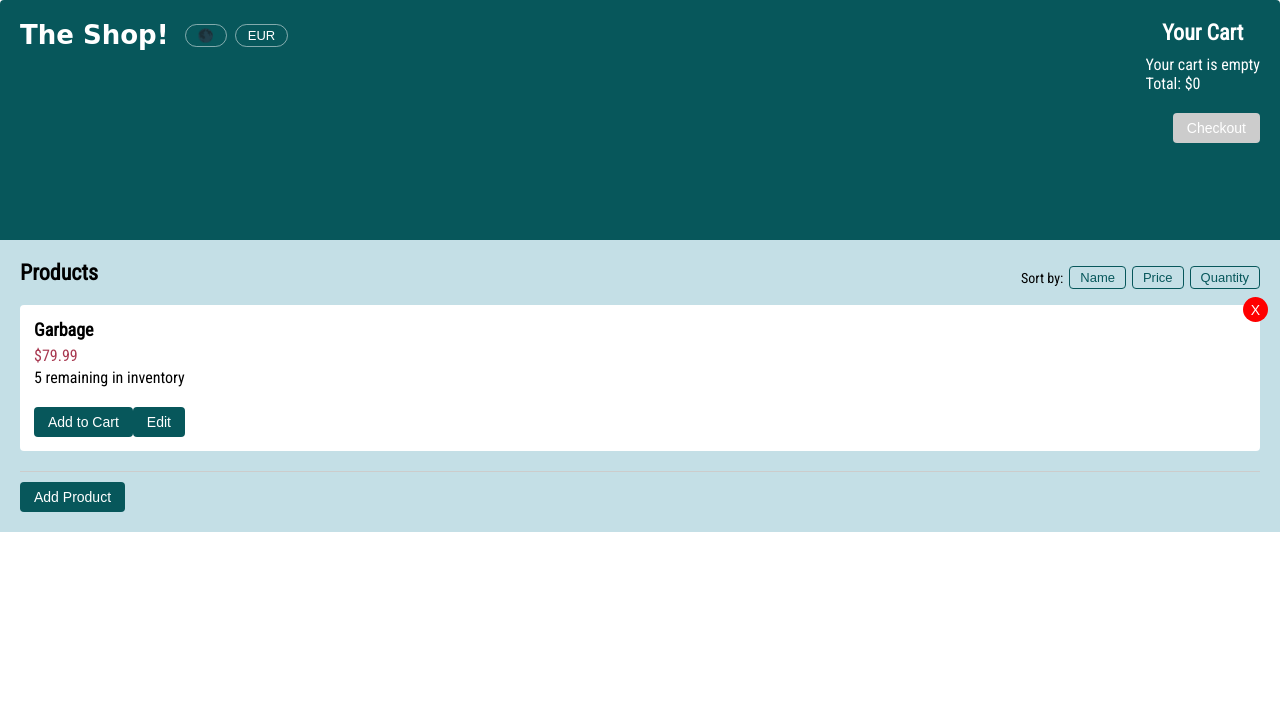
Test: deleting product removes from product list
Expected: the heading "Garbage" is shown, left=34, top=319, right=94, bottom=340
Click the button "X" at x=1256, y=310, box left=1243, top=297, right=1268, bottom=322
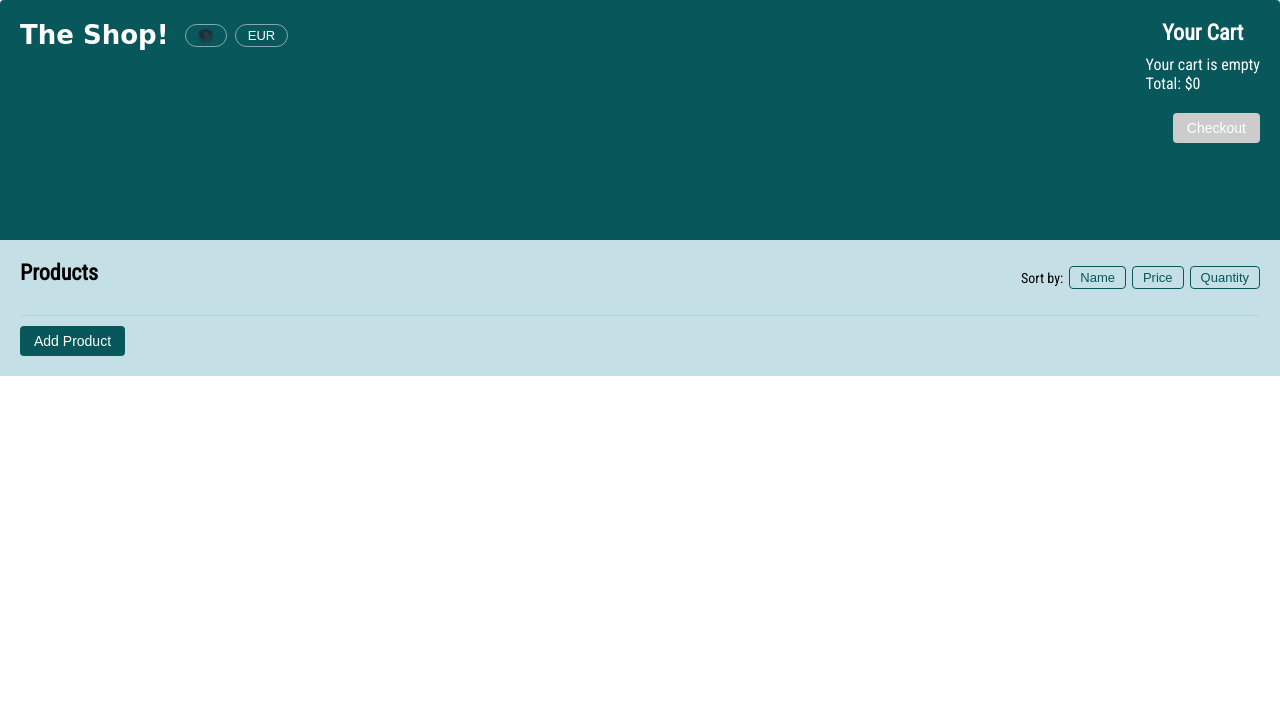
Expected: the heading "Garbage" is gone
